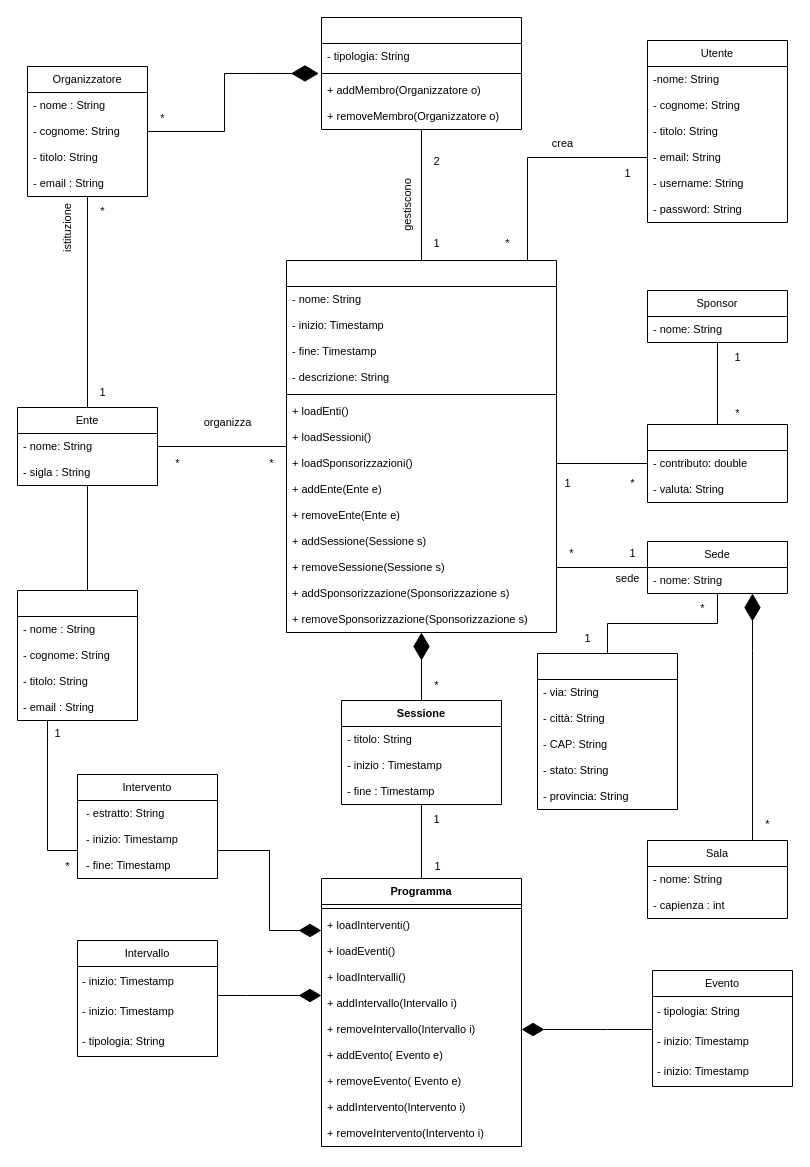
The diagram is 810 pixels wide and 1167 high, and some of its shapes have lost their labels. The box of each missing label's shape, as (x1, y1, x2, y2) in pixels:
Comitato: (320, 16, 522, 130)
Conferenza: (286, 260, 556, 632)
Indirizzo: (536, 652, 678, 810)
Speaker: (16, 590, 138, 720)
Sponsorizzazione: (646, 424, 788, 502)
